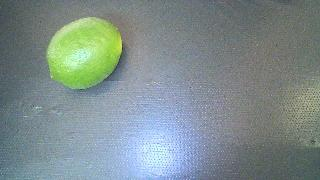EXPORTACION: (46, 17, 122, 89)
